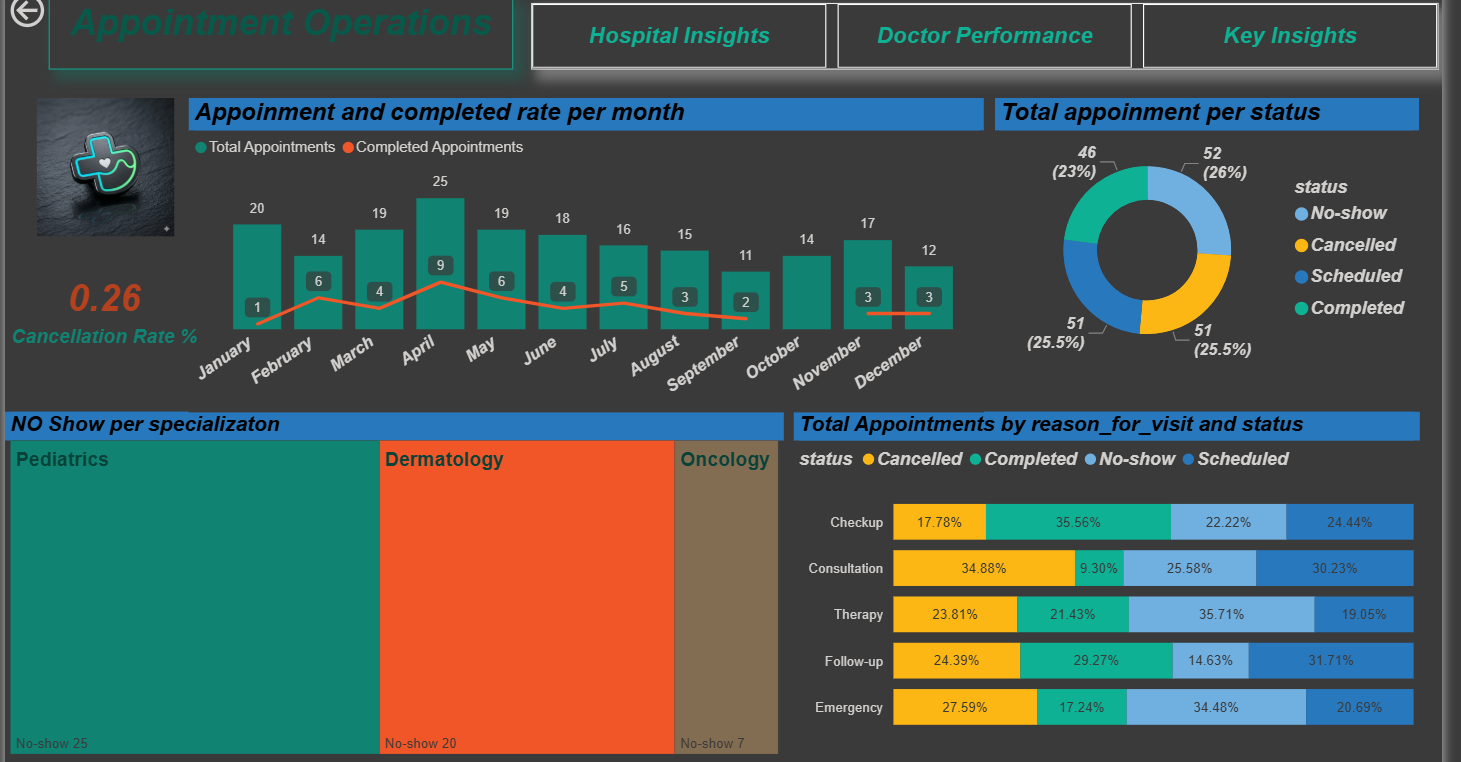

The dashboard page shown, as its layout file describes it:
{"tool":"powerbi","page":{"name":"Appointment Operations","canvas":[1280,720],"ordinal":1},"visuals":[{"type":"hundredPercentStackedBarChart","fields":{"Category":["appointments.reason_for_visit"],"Y":["appointments.Total Appointments"],"Series":["appointments.status"]},"box":[702.1,377.6,557.4,301.6],"z":0},{"type":"donutChart","title":"Total appoinment per           status","fields":{"Category":["appointments.status"],"Y":["appointments.Total Appointments"]},"box":[881.9,97.7,377.6,247.3],"z":1000},{"type":"pageNavigator","box":[468.1,13.3,808.3,59.1],"z":2000},{"type":"textbox","box":[38.6,7.2,413.8,65.1],"z":3000},{"type":"image","box":[26.5,97.7,125.5,123.1],"z":4000},{"type":"actionButton","box":[0,0,100.1,39.8],"z":5000},{"type":"treemap","title":"NO Show per  specializaton ","fields":{"Group":["doctors.specialization"],"Details":["appointments.status"],"Values":["appointments.Total Appointments"]},"box":[0,377.6,693.7,310.1],"z":5001},{"type":"lineClusteredColumnComboChart","title":"Appoinment and completed rate per month","fields":{"Category":["Dim_Date.Month Name"],"Y":["appointments.Total Appointments"],"Y2":["appointments.Completed Appointments"]},"box":[164.1,97.7,708.2,279.9],"z":5002},{"type":"card","fields":{"Values":["appointments.Cancellation Rate %"]},"box":[0,237.7,177.3,94.1],"z":5003}]}

Visuals, with their boxes on the page's 1280x720 design canvas (x1, y1, x2, y2). These are canvas units, not pixel positions in the 1461x762 screenshot, which may show the page scaled, cropped or inside an application window:
hundredPercentStackedBarChart - appointments.reason_for_visit x appointments.Total Appointments: [702,378,1260,679]
"Total appoinment per           status" donutChart: [882,98,1260,345]
pageNavigator: [468,13,1276,72]
textbox: [39,7,452,72]
image: [26,98,152,221]
actionButton: [0,0,100,40]
"NO Show per  specializaton " treemap: [0,378,694,688]
"Appoinment and completed rate per month" lineClusteredColumnComboChart: [164,98,872,378]
card - appointments.Cancellation Rate %: [0,238,177,332]
